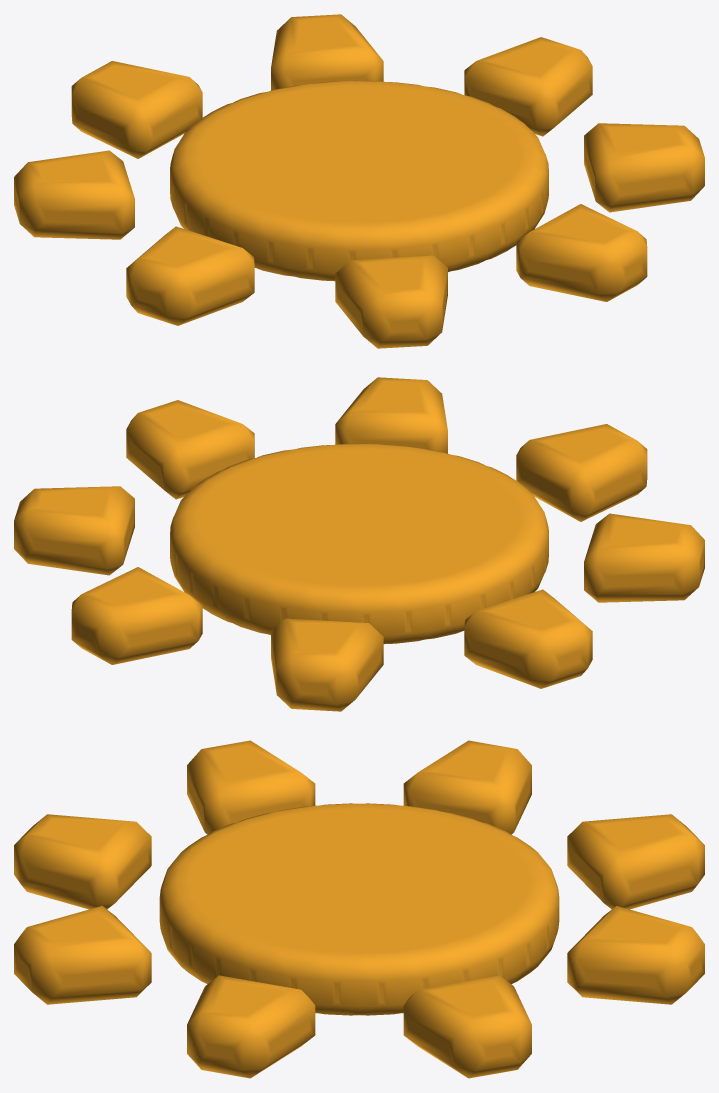
File: emblem_sun.glb
The picture shows the model from 3 angles, top to bottom: view 1: azimuth 30°, elevation 25°; view 2: azimuth 150°, elevation 25°; view 3: azimuth 270°, elevation 25°; orthographic projection. The views are drawn at different scales.
Visible parts, largest first — view 1: Emblem_Sun; view 2: Emblem_Sun; view 3: Emblem_Sun.
Boxes of the visible parts, x1,y1,x2,y2 form: Emblem_Sun: (14,14,704,348); Emblem_Sun: (14,377,704,711); Emblem_Sun: (14,740,704,1078).
Bounding box in the file's own units: 0.5504 × 0.05 × 0.5504.
